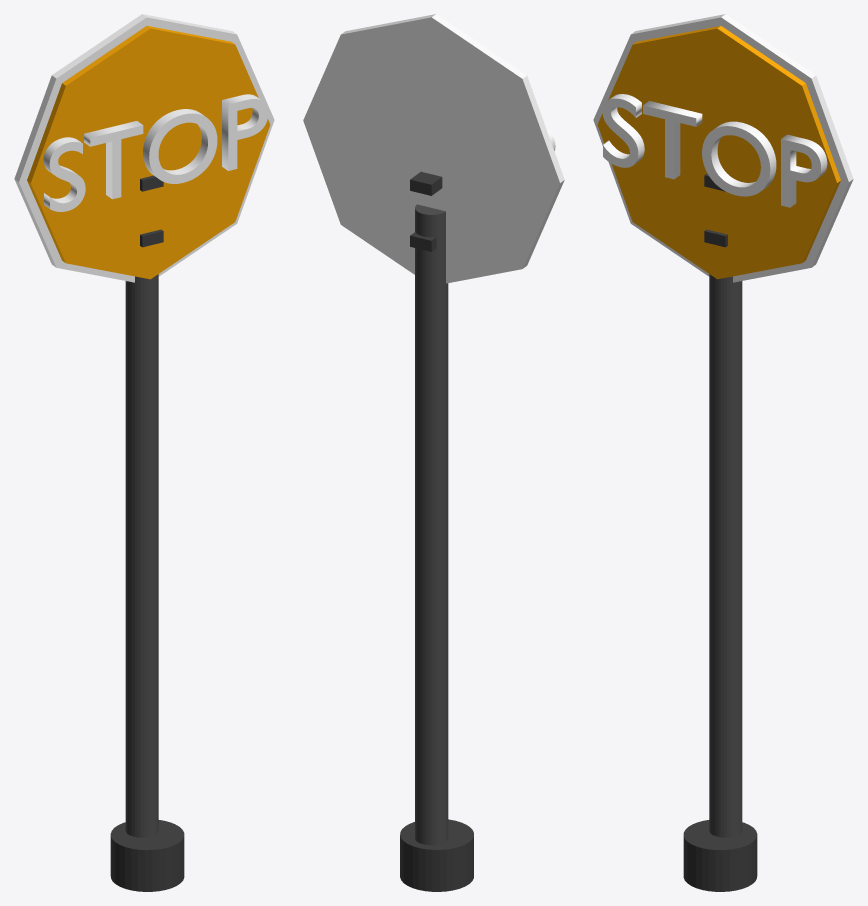
3 views of the same model, side by side, from view 1: azimuth 30°, elevation 25°; view 2: azimuth 150°, elevation 25°; view 3: azimuth 330°, elevation 25° (orthographic).
Parts seen in each view (by area): view 1: Cylinder.003, Cylinder.001, Text, Cylinder.002, Cylinder; view 2: Cylinder.002, Cylinder.001, Cylinder, Cube.001; view 3: Cylinder.003, Cylinder.001, Text, Cylinder.002, Cylinder.
Part boxes in pixels (x1,y1,x2,y2): Cylinder.003: (27,26,270,279); Cylinder.001: (125,274,158,837); Text: (43,94,268,211); Cylinder.002: (14,14,274,282); Cylinder: (110,820,184,891); Cylinder.002: (303,14,564,283); Cylinder.001: (415,204,448,845); Cylinder: (400,819,473,891); Cube.001: (410,171,442,195); Cylinder.003: (597,26,840,279); Cylinder.001: (709,274,742,837); Text: (602,94,827,207); Cylinder.002: (593,14,853,282); Cylinder: (683,820,757,891).
Size of the model in its own units: 0.96 by 3.08 by 0.24.
